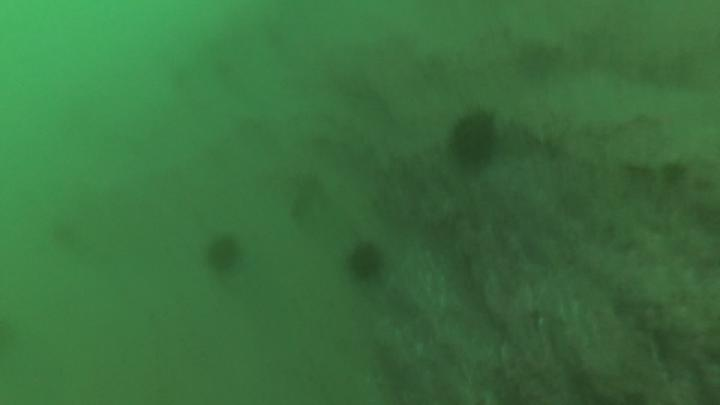echinus: (450, 115, 499, 165), (349, 244, 382, 281), (209, 241, 239, 271)
